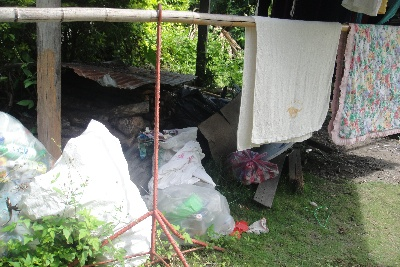plastic_bag: (19, 118, 153, 267), (142, 183, 235, 247), (143, 126, 213, 184), (225, 149, 280, 187)
